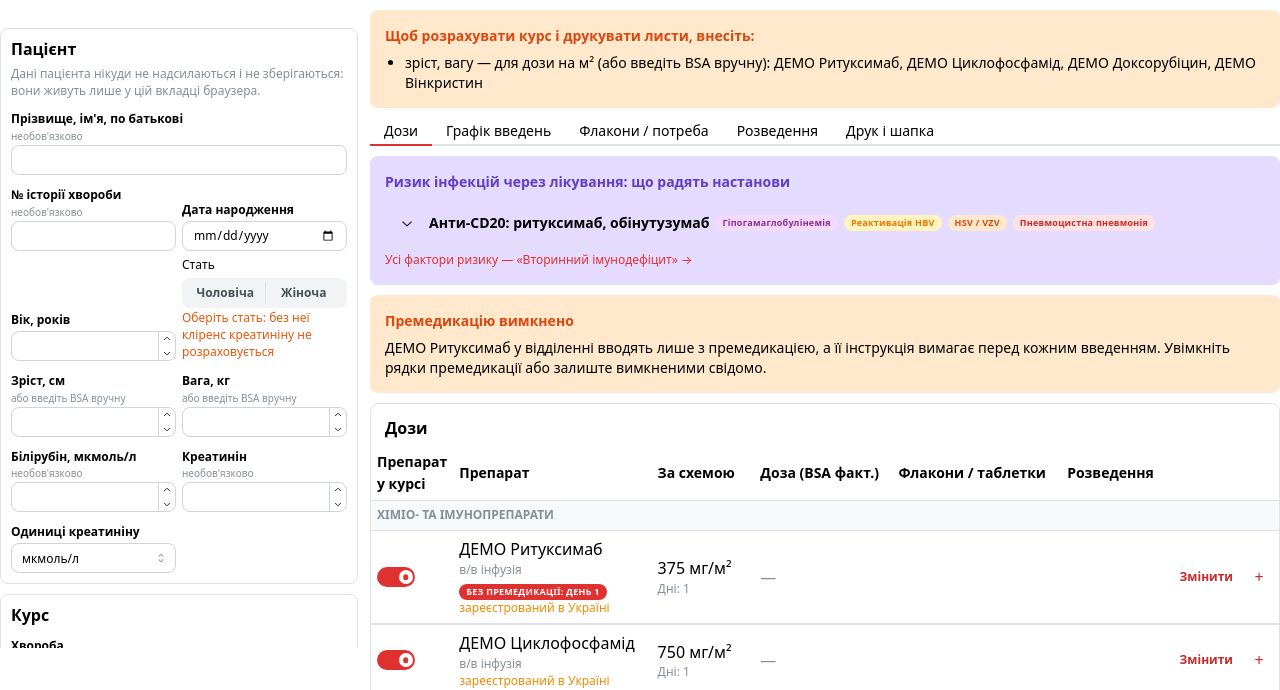
Test case: CalculatorPage › takes a dose typed by hand for one drug
Type "60" into the field labelled "Вік, років" at (94, 346), box [11,331,176,361]
Type "180" into the field labelled "Зріст, см" at (94, 422), box [11,407,176,437]
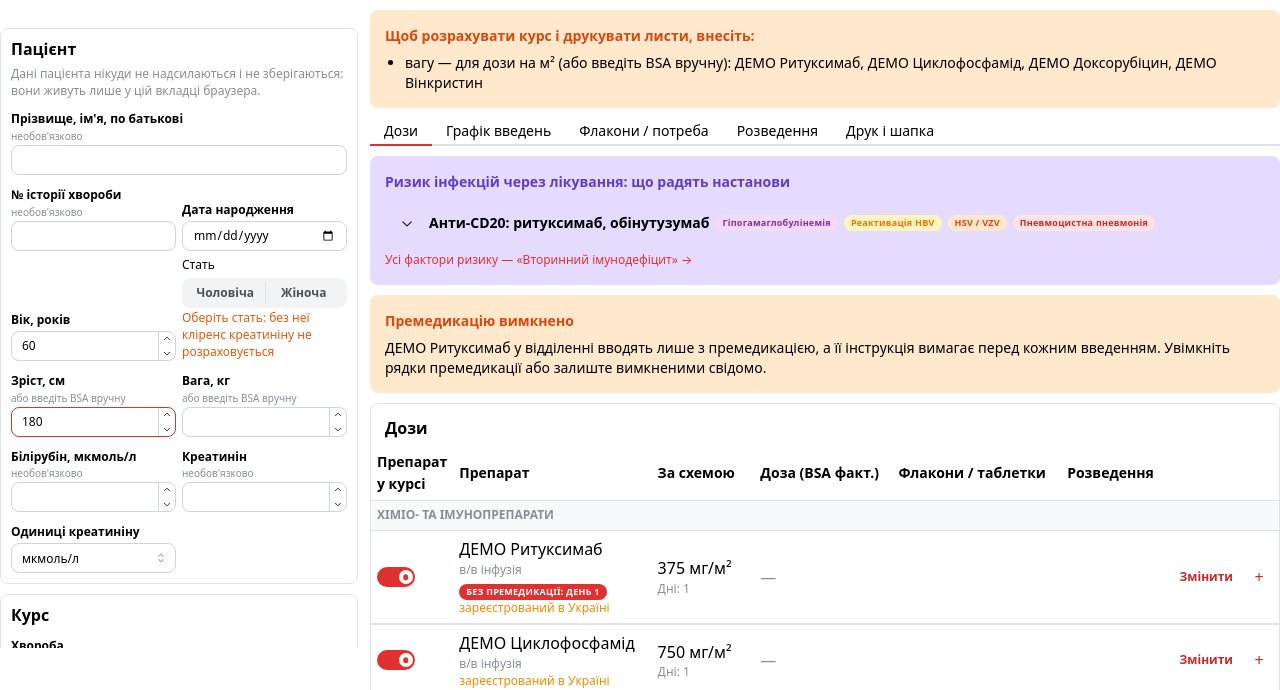
Type "80" into the field labelled "Вага, кг" at (264, 422), box [182,407,347,437]
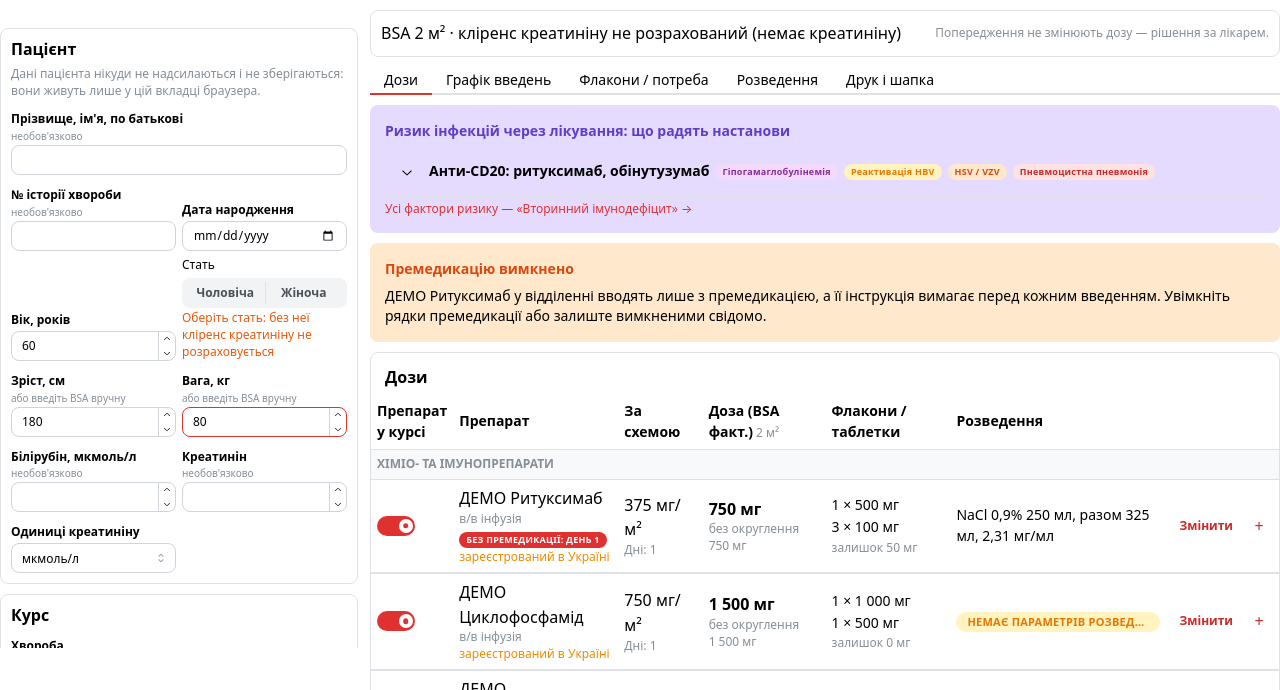
Type "88,4" into the field labelled "Креатинін" at (264, 497), box [182,482,347,512]
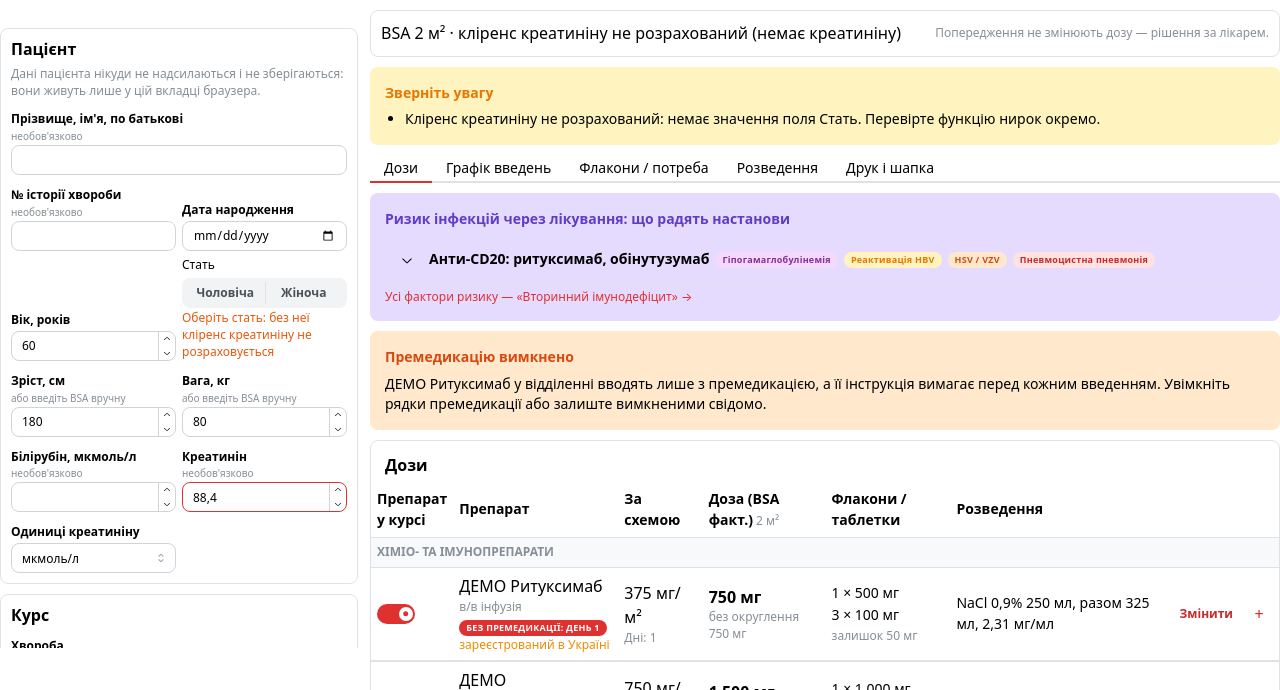
Click the text "Чоловіча" at (225, 292), box [196,284,254,301]
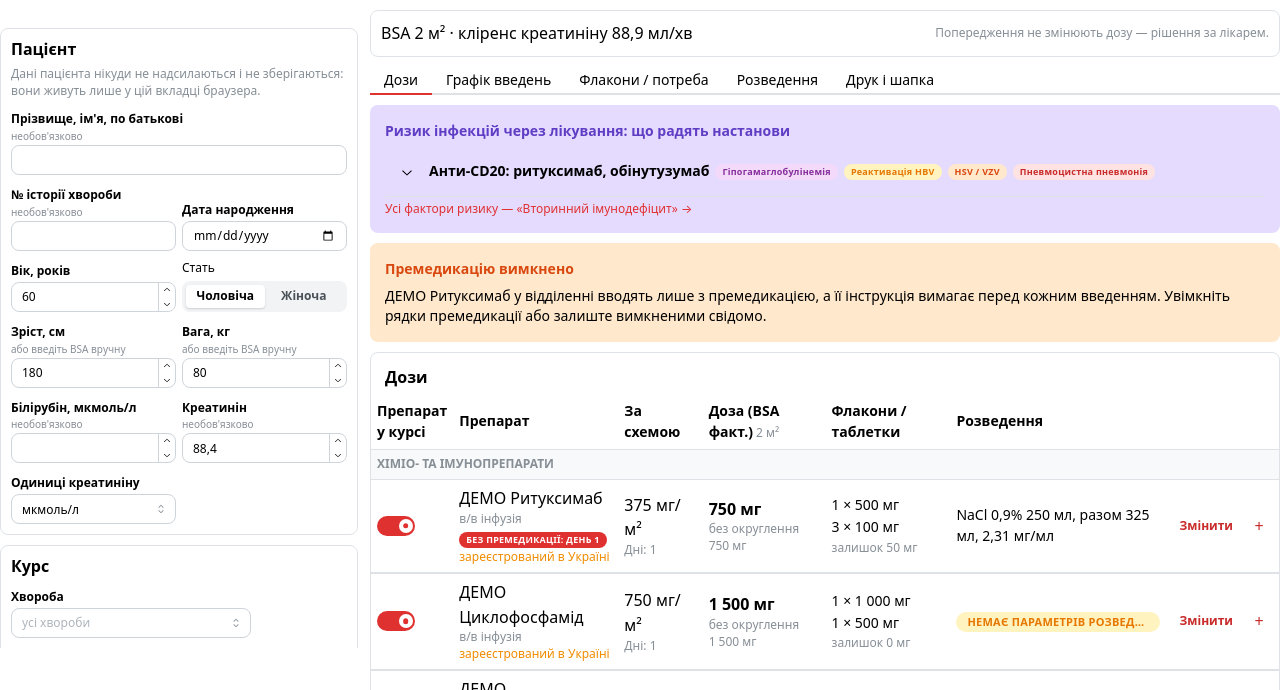
Click the button "Змінити" in the row of "без премедикації: день 1" at (1206, 526), box [1172,515,1241,537]
(page scrolled)
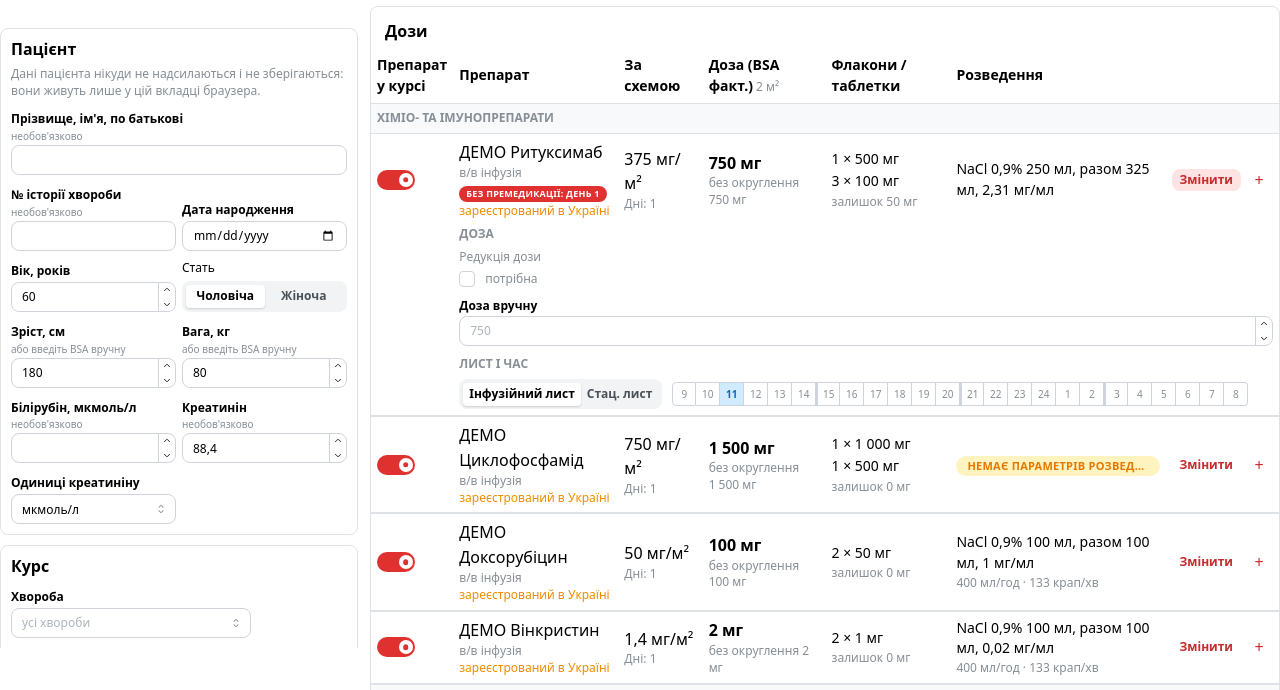
Type "700" into the field named "Доза вручну: ДЕМО Ритуксимаб" at (866, 331), box [459,316,1273,346]
(page scrolled)
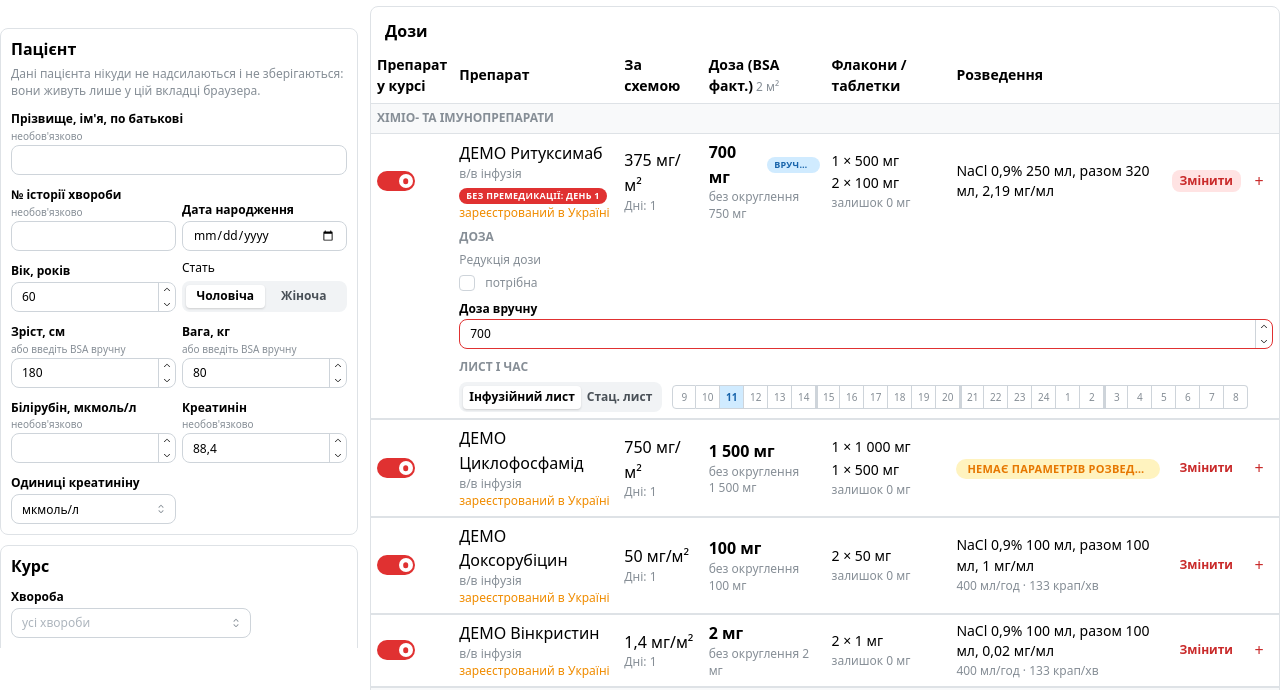
Now the text "700 мг" is shown, box [709,141,736,188]
Now the text "вручну" is shown, box [774,158,813,172]
